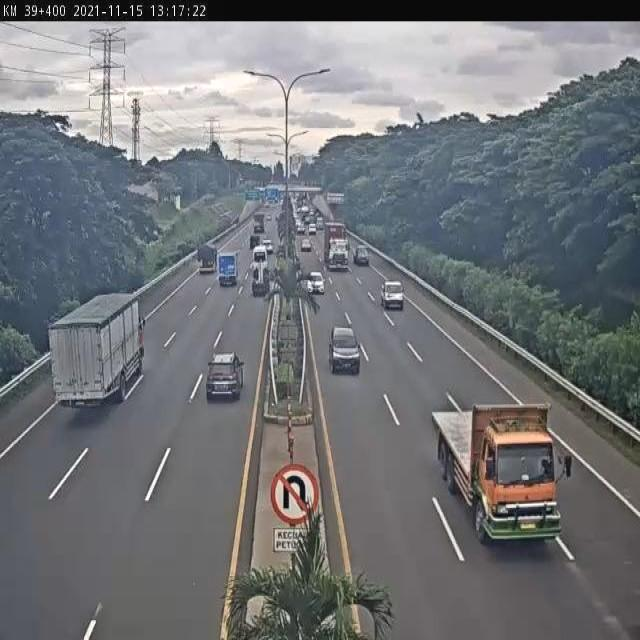Car: (195, 336, 245, 414), (329, 316, 358, 386), (381, 258, 409, 324), (302, 263, 330, 311), (355, 220, 369, 267), (302, 230, 315, 258)
Truck: (422, 395, 581, 578), (46, 283, 153, 421), (217, 229, 241, 303), (321, 220, 352, 277), (184, 229, 214, 284), (252, 235, 278, 298)
